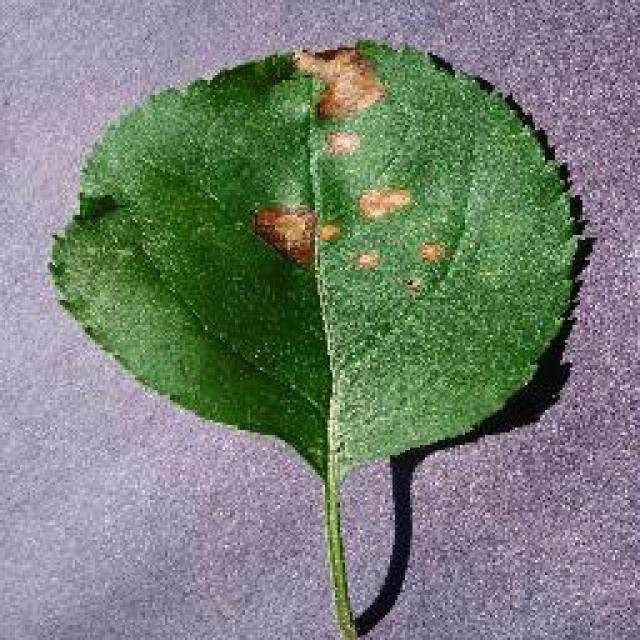apple black rot: (45, 35, 593, 637)
